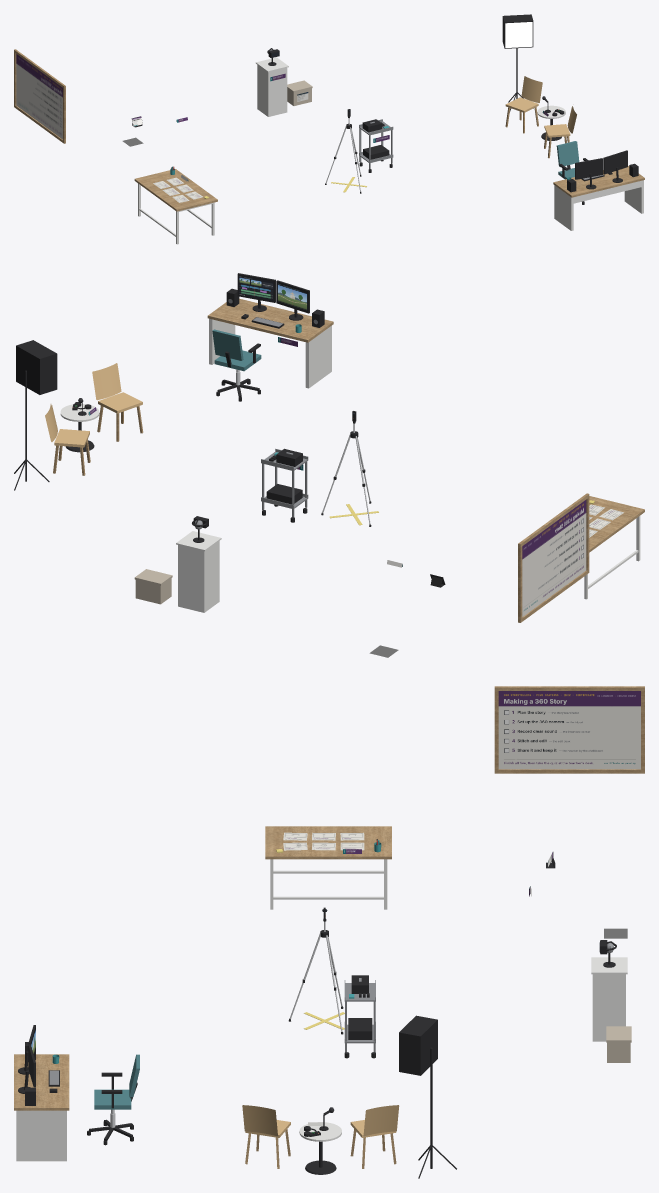
Rendered from Maker.glb.
3 renders of one model, top to bottom at view 1: azimuth 30°, elevation 25°; view 2: azimuth 150°, elevation 25°; view 3: azimuth 270°, elevation 25°, orthographic. The views are drawn at different scales.
Visible parts, largest first — view 1: M_mk_white, M_mk_oak, M_mk_black, M_mk_board, M_mk_shell, M_mk_soft_e, M_mk_grey, M_mk_cards, M_mk_card, M_mk_fabric; view 2: M_mk_black, M_mk_white, M_mk_oak, M_mk_board, M_mk_shell, M_mk_edit_e, M_mk_grey, M_mk_card, M_mk_fabric, M_mk_alu; view 3: M_mk_board, M_mk_oak, M_mk_white, M_mk_black, M_mk_shell, M_mk_cards, M_mk_grey, M_mk_card.
Part boxes in pixels (bbox=[...]): M_mk_white: bbox=[138, 57, 643, 244]; M_mk_oak: bbox=[14, 49, 644, 211]; M_mk_black: bbox=[131, 14, 638, 204]; M_mk_board: bbox=[16, 54, 62, 139]; M_mk_shell: bbox=[505, 76, 576, 137]; M_mk_soft_e: bbox=[505, 22, 532, 47]; M_mk_grey: bbox=[269, 49, 603, 179]; M_mk_cards: bbox=[153, 177, 202, 202]; M_mk_card: bbox=[287, 80, 312, 105]; M_mk_fabric: bbox=[556, 141, 579, 167]; M_mk_black: bbox=[14, 273, 445, 587]; M_mk_white: bbox=[60, 318, 640, 612]; M_mk_oak: bbox=[53, 298, 644, 622]; M_mk_board: bbox=[522, 500, 586, 616]; M_mk_shell: bbox=[45, 363, 142, 447]; M_mk_edit_e: bbox=[238, 275, 307, 311]; M_mk_grey: bbox=[194, 299, 317, 529]; M_mk_card: bbox=[134, 569, 172, 604]; M_mk_fabric: bbox=[212, 329, 243, 360]; M_mk_alu: bbox=[236, 369, 370, 524]; M_mk_board: bbox=[498, 691, 640, 769]; M_mk_oak: bbox=[14, 686, 644, 1168]; M_mk_white: bbox=[16, 859, 627, 1161]; M_mk_black: bbox=[18, 839, 616, 1178]; M_mk_shell: bbox=[242, 1105, 399, 1137]; M_mk_cards: bbox=[283, 832, 364, 850]; M_mk_grey: bbox=[49, 942, 613, 1084]; M_mk_card: bbox=[606, 1026, 631, 1062].
Bounding box in the file's own units: 9.72 × 2.35 × 7.98.
24 materials, 8 textured.
